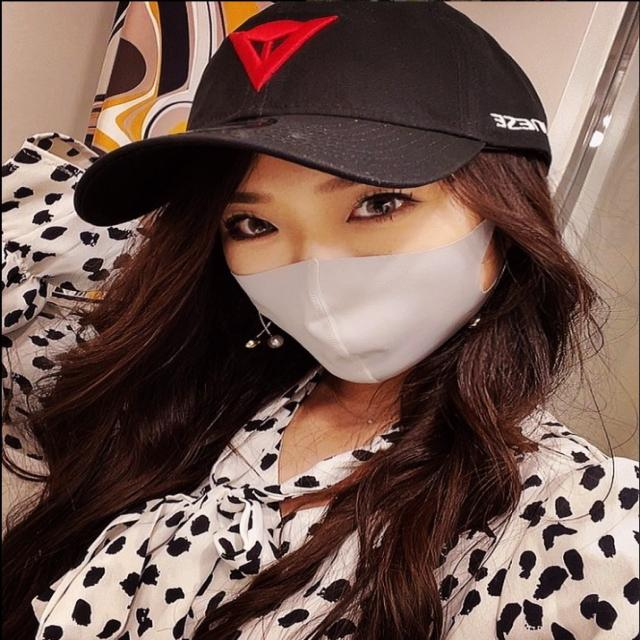illegal_helmet: (69, 0, 558, 392)
